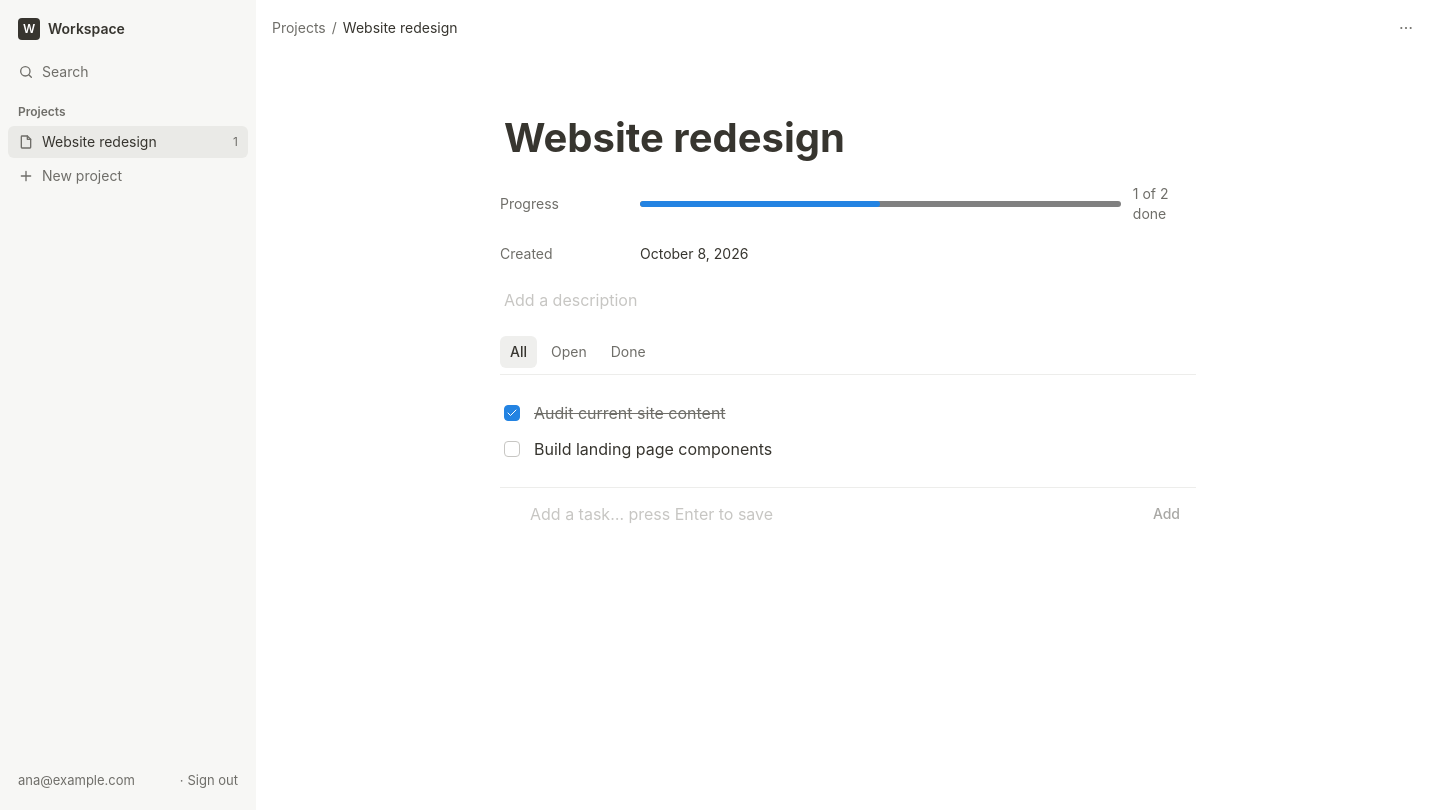
project detail page › updates the URL when switching task filter tabs
Expected: the button "Audit current site content" is shown, [530,399,1150,427]
Click the tab "Open". click: (569, 352)
box: [541,336,597,368]
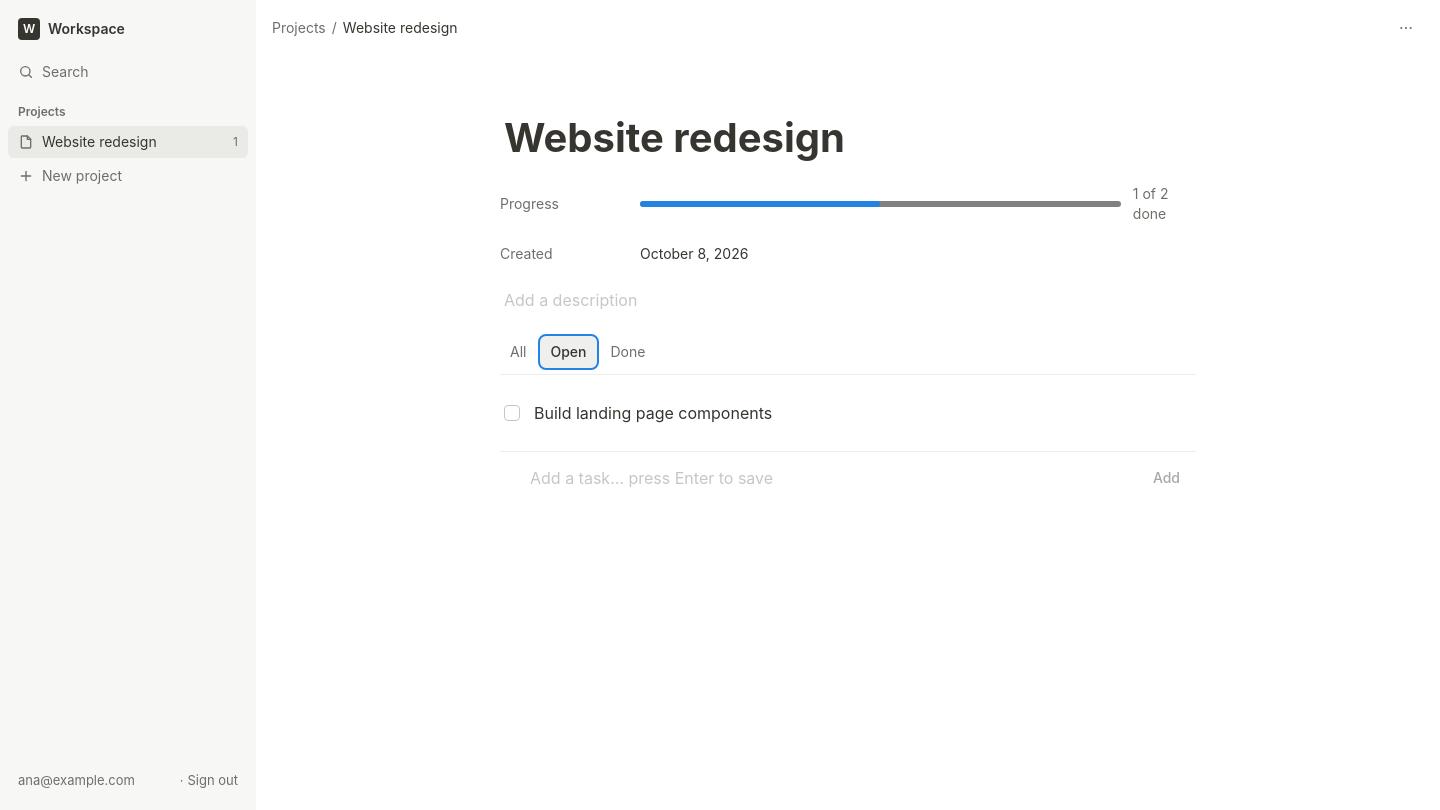
Expected: the button "Build landing page components" is shown, [530,399,1150,427]
Now the button "Audit current site content" is gone
